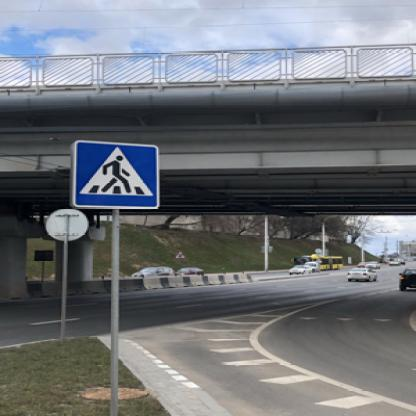crosswalk: (71, 138, 158, 208)
